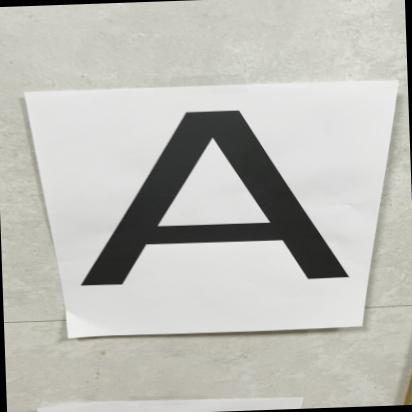seat: (62, 88, 350, 308)
